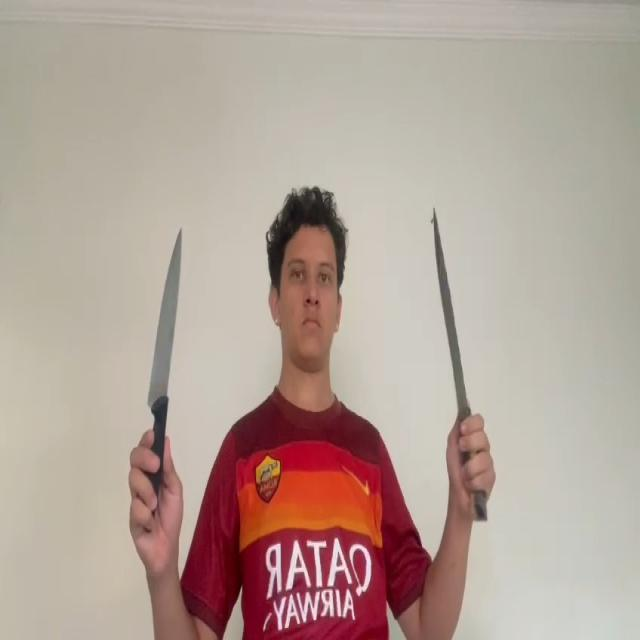knife: (433, 208, 468, 418), (148, 228, 183, 406)
